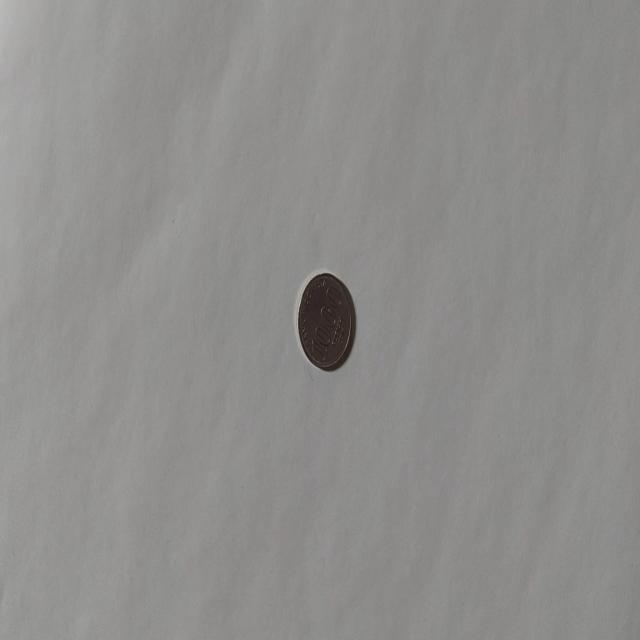seribu rupiah koin: (296, 270, 354, 372)
